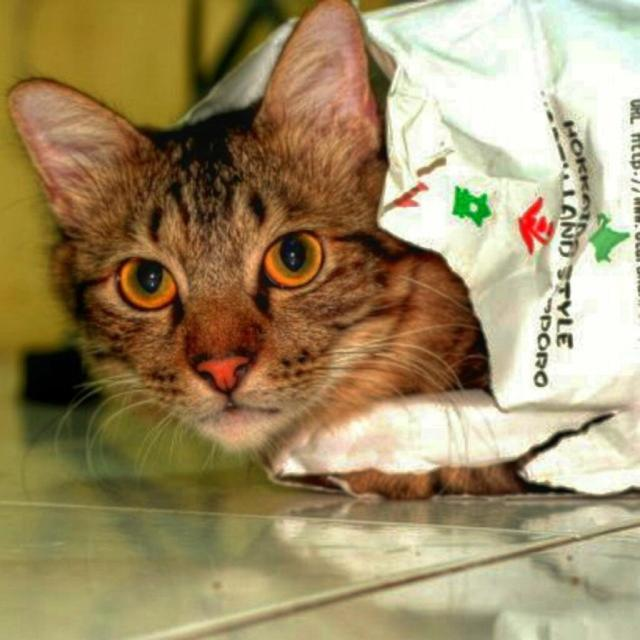Cat: (0, 1, 569, 498)
